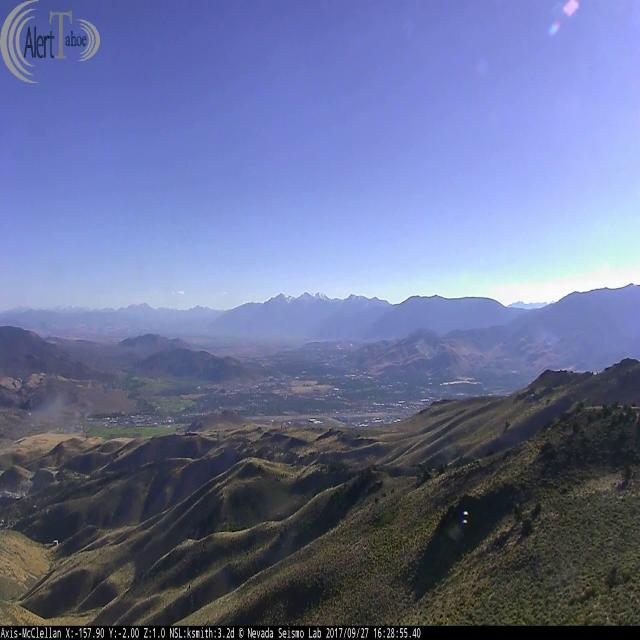smoke: (46, 408, 81, 437)
